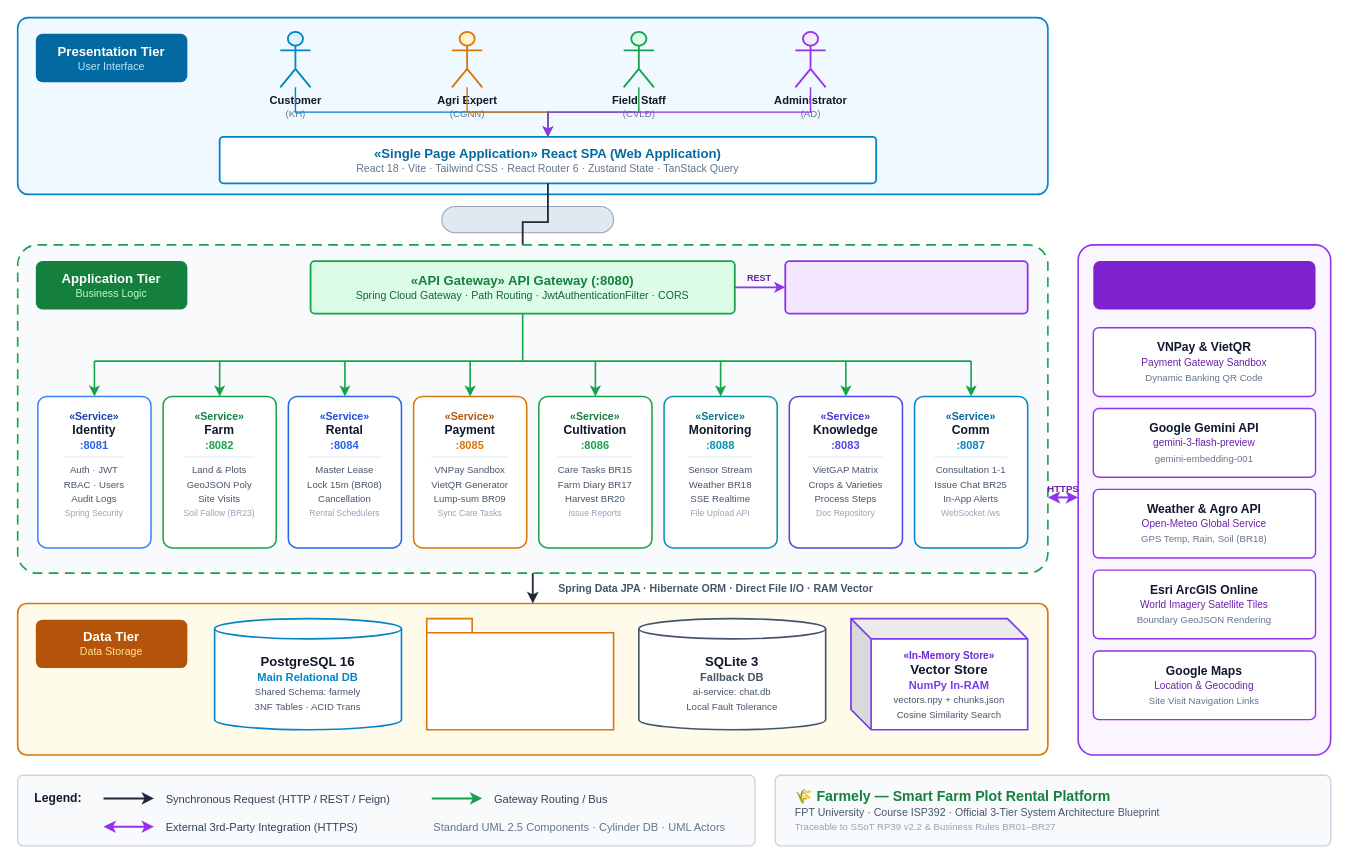
Image size: 1349x865. Some labels were removed from this diagram. The shapes that lost their labels are listed below. From the top down, each one's box as (x1, y1, x2, y2) in pixels, then its label:
(441, 206, 614, 233): HTTPS / REST + Bearer JWT
(784, 260, 1028, 314): «Microservice» AI Service (:8089) Python FastAPI · RAG Engine · Gemini LLM
(1093, 261, 1315, 309): External Services Third-Party Integrations
(425, 617, 614, 730): File Storage Local File System Path: /uploads Proof Photos · Docs
